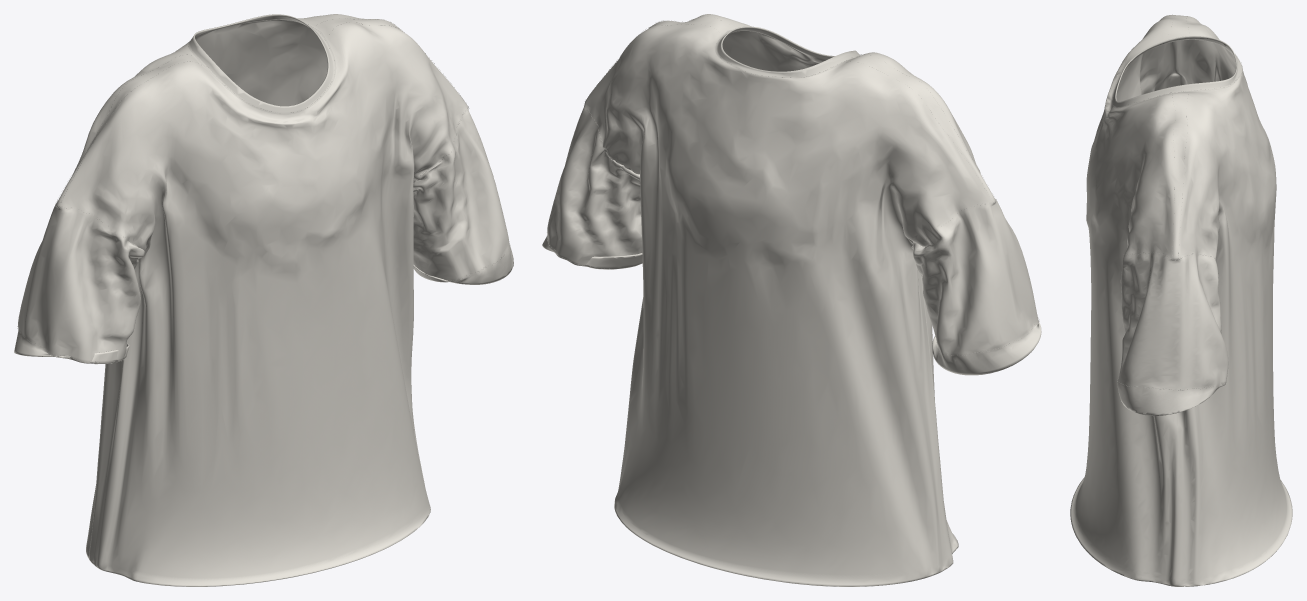
Rendered from tee.glb.
The picture shows the model from 3 angles, left to right: view 1: azimuth 30°, elevation 25°; view 2: azimuth 150°, elevation 25°; view 3: azimuth 270°, elevation 25°; orthographic projection. The views are drawn at different scales.
Visible parts, largest first — view 1: Raw-hem heavyweight tee - cloth; view 2: Raw-hem heavyweight tee - cloth; view 3: Raw-hem heavyweight tee - cloth.
Part boxes in pixels (x1=…): Raw-hem heavyweight tee - cloth: x1=14, y1=14, x2=513, y2=586; Raw-hem heavyweight tee - cloth: x1=542, y1=14, x2=1041, y2=586; Raw-hem heavyweight tee - cloth: x1=1070, y1=15, x2=1292, y2=586.
Size of the model in its own units: 0.6577 by 0.633 by 0.2801.
Materials: 3 (2 with a texture image).
